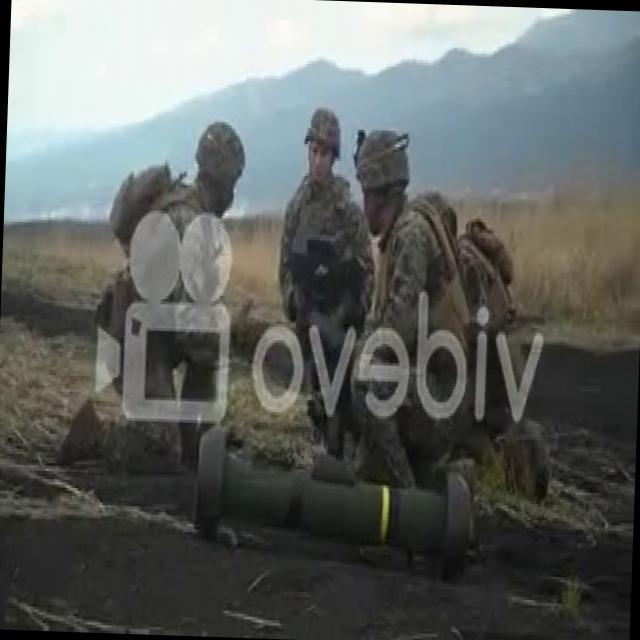rocket: (183, 418, 475, 570)
